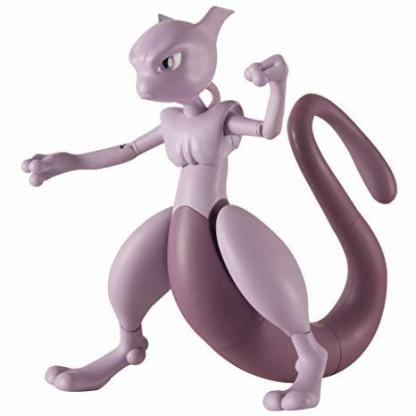Mewtwo: (1, 3, 416, 416)
